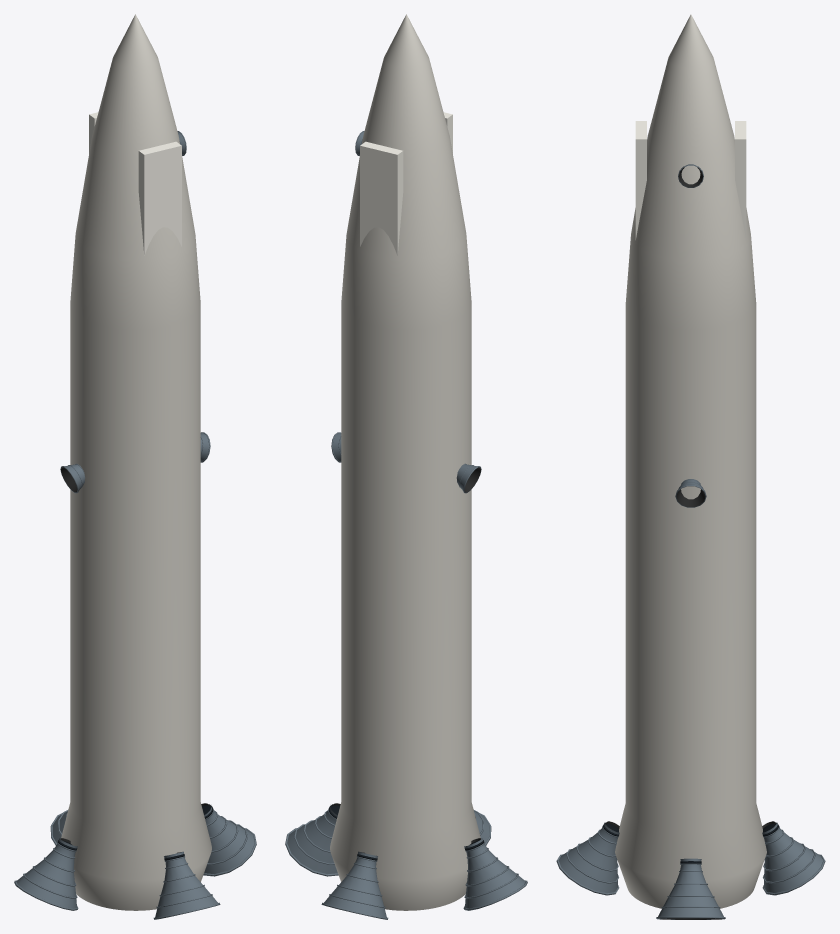
The model's file is launch_escape.escape_motor.glb.
The picture shows the model from 3 angles, left to right: view 1: azimuth 30°, elevation 25°; view 2: azimuth 150°, elevation 25°; view 3: azimuth 270°, elevation 25°; orthographic projection.
Visible parts, largest first — view 1: launch_escape.escape_motor.mesh, launch_escape.escape_motor.canard_02.mesh, launch_escape.escape_motor.escape_jet_04.mesh, launch_escape.escape_motor.escape_jet_01.mesh, launch_escape.escape_motor.escape_jet_02.mesh, launch_escape.escape_motor.jettison_jet_02.mesh; view 2: launch_escape.escape_motor.mesh, launch_escape.escape_motor.canard_01.mesh, launch_escape.escape_motor.escape_jet_04.mesh, launch_escape.escape_motor.escape_jet_03.mesh, launch_escape.escape_motor.escape_jet_02.mesh, launch_escape.escape_motor.jettison_jet_02.mesh; view 3: launch_escape.escape_motor.mesh, launch_escape.escape_motor.escape_jet_01.mesh, launch_escape.escape_motor.escape_jet_03.mesh, launch_escape.escape_motor.escape_jet_02.mesh, launch_escape.escape_motor.canard_01.mesh, launch_escape.escape_motor.canard_02.mesh.
Boxes of the visible parts, <box> form: launch_escape.escape_motor.mesh: <box>61,14,211,910</box>; launch_escape.escape_motor.canard_02.mesh: <box>138,141,181,255</box>; launch_escape.escape_motor.escape_jet_04.mesh: <box>14,838,78,910</box>; launch_escape.escape_motor.escape_jet_01.mesh: <box>153,851,220,919</box>; launch_escape.escape_motor.escape_jet_02.mesh: <box>201,803,256,876</box>; launch_escape.escape_motor.jettison_jet_02.mesh: <box>60,463,85,493</box>; launch_escape.escape_motor.mesh: <box>330,14,480,910</box>; launch_escape.escape_motor.canard_01.mesh: <box>360,141,403,255</box>; launch_escape.escape_motor.escape_jet_04.mesh: <box>463,838,527,910</box>; launch_escape.escape_motor.escape_jet_03.mesh: <box>321,851,388,919</box>; launch_escape.escape_motor.escape_jet_02.mesh: <box>285,803,340,876</box>; launch_escape.escape_motor.jettison_jet_02.mesh: <box>456,463,481,493</box>; launch_escape.escape_motor.mesh: <box>615,14,766,908</box>; launch_escape.escape_motor.escape_jet_01.mesh: <box>556,821,619,895</box>; launch_escape.escape_motor.escape_jet_03.mesh: <box>762,821,825,895</box>; launch_escape.escape_motor.escape_jet_02.mesh: <box>656,858,725,919</box>; launch_escape.escape_motor.canard_01.mesh: <box>735,121,746,239</box>; launch_escape.escape_motor.canard_02.mesh: <box>635,121,646,239</box>.
Bounding box in the file's own units: 1.29 × 4.66 × 1.3.
